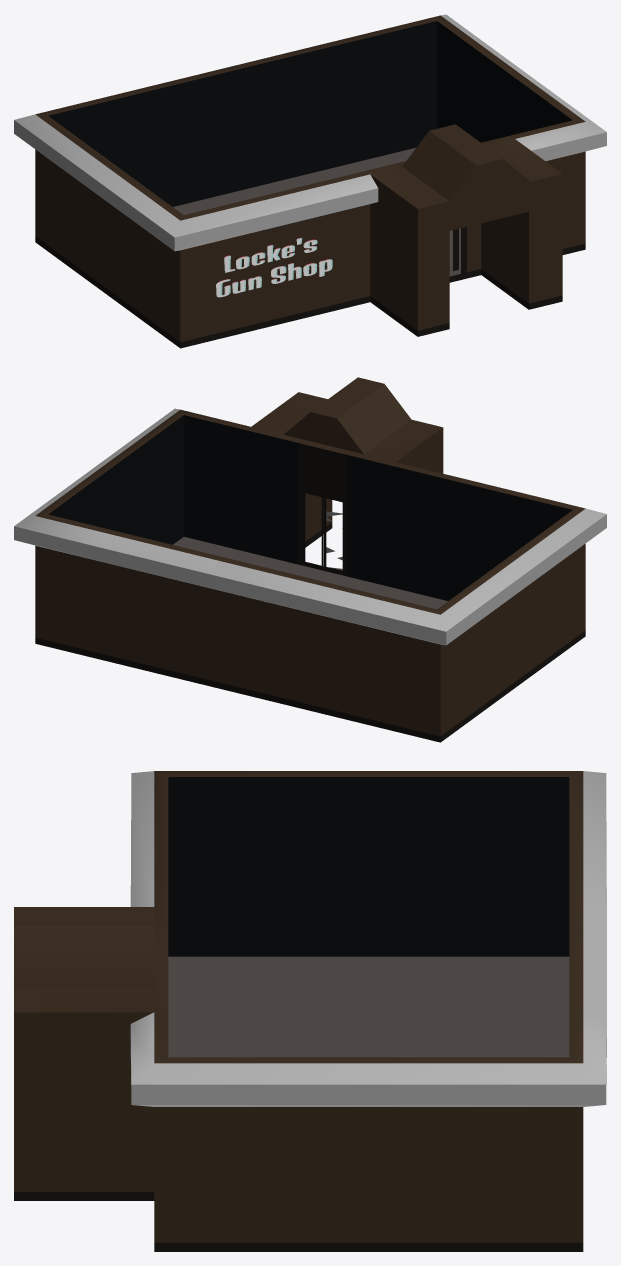
File: gun_shop.obj
3 renders of one model, top to bottom at view 1: azimuth 30°, elevation 25°; view 2: azimuth 150°, elevation 25°; view 3: azimuth 270°, elevation 25°, orthographic. The views are drawn at different scales.
Parts seen in each view (by area): view 1: pCube4, pPlane1; view 2: pCube4; view 3: pCube4.
Part boxes in pixels (x1,y1,x2,y2): pCube4: (14,14,606,348); pPlane1: (216,237,332,297); pCube4: (14,377,606,742); pCube4: (14,771,606,1251).
Bounding box in the file's own units: 10.95 × 3.8 × 8.81.
